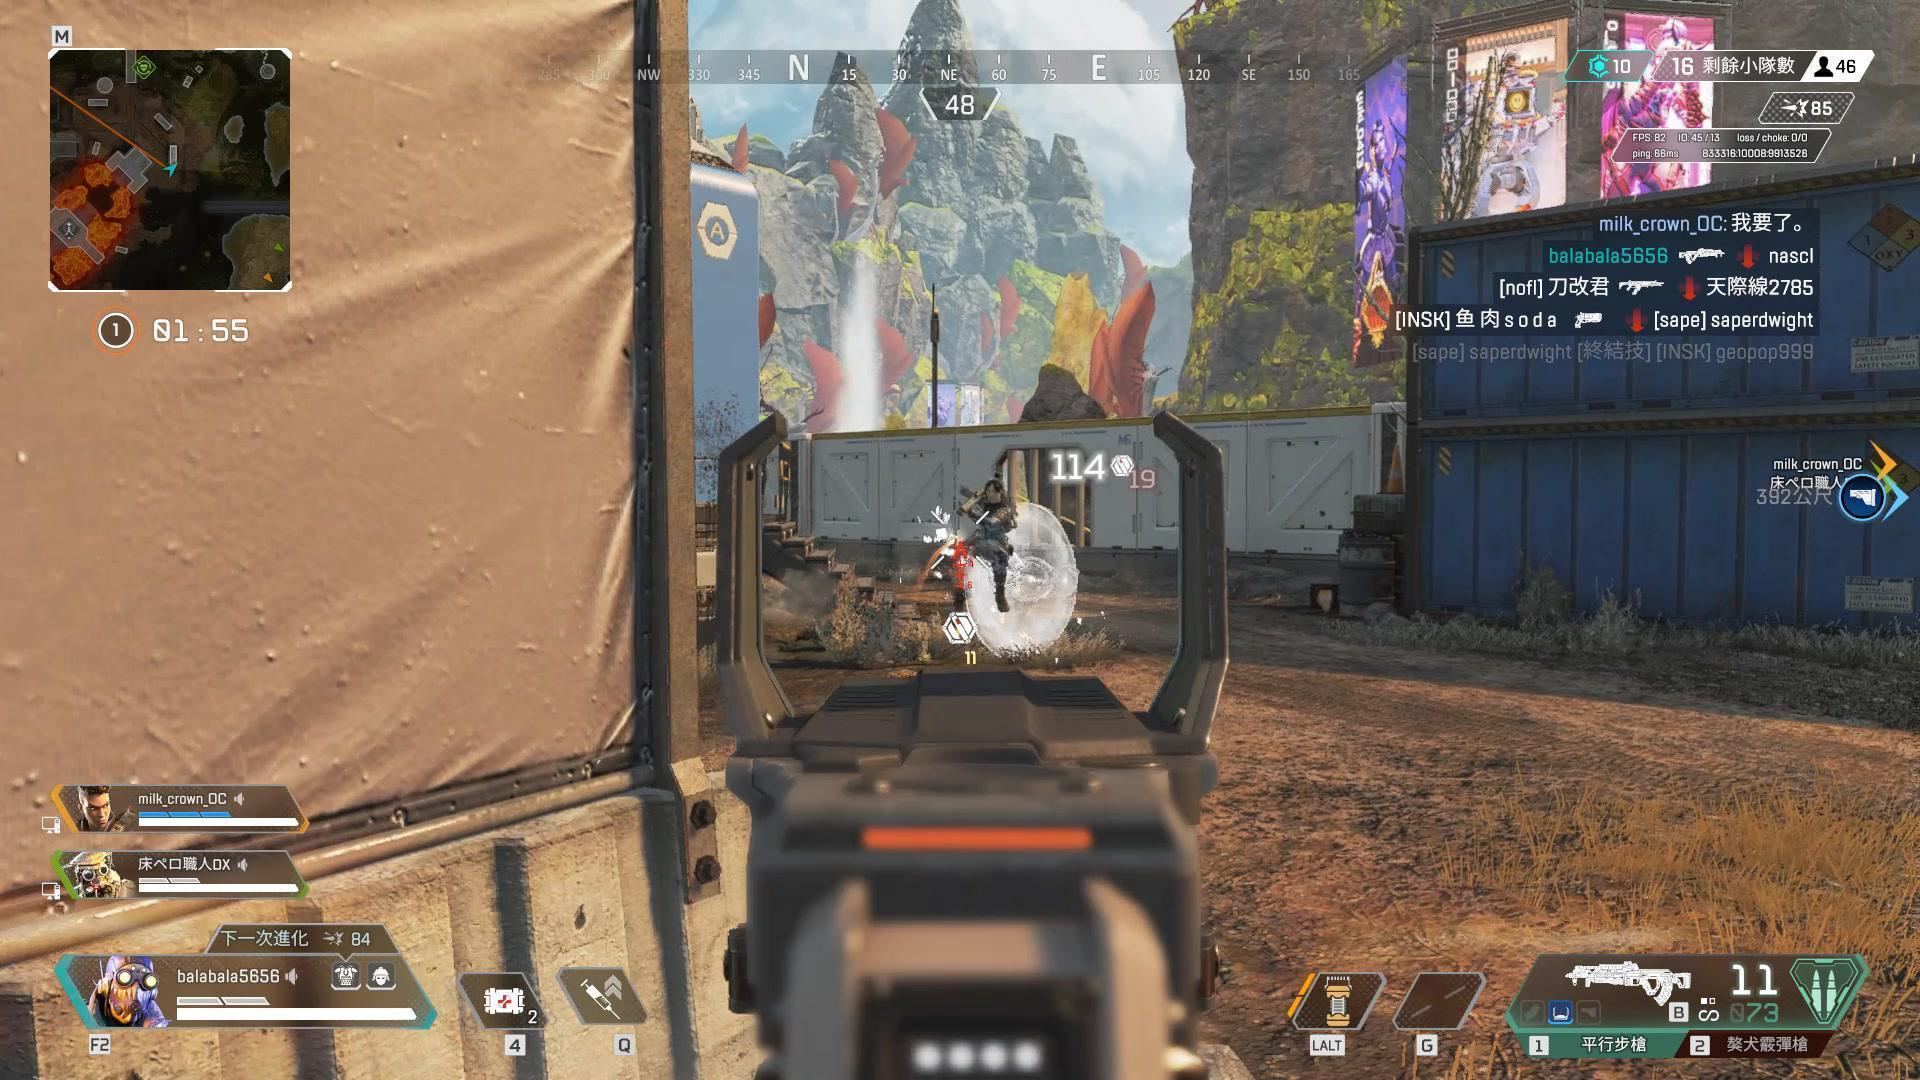avatar: (956, 471, 1020, 614)
